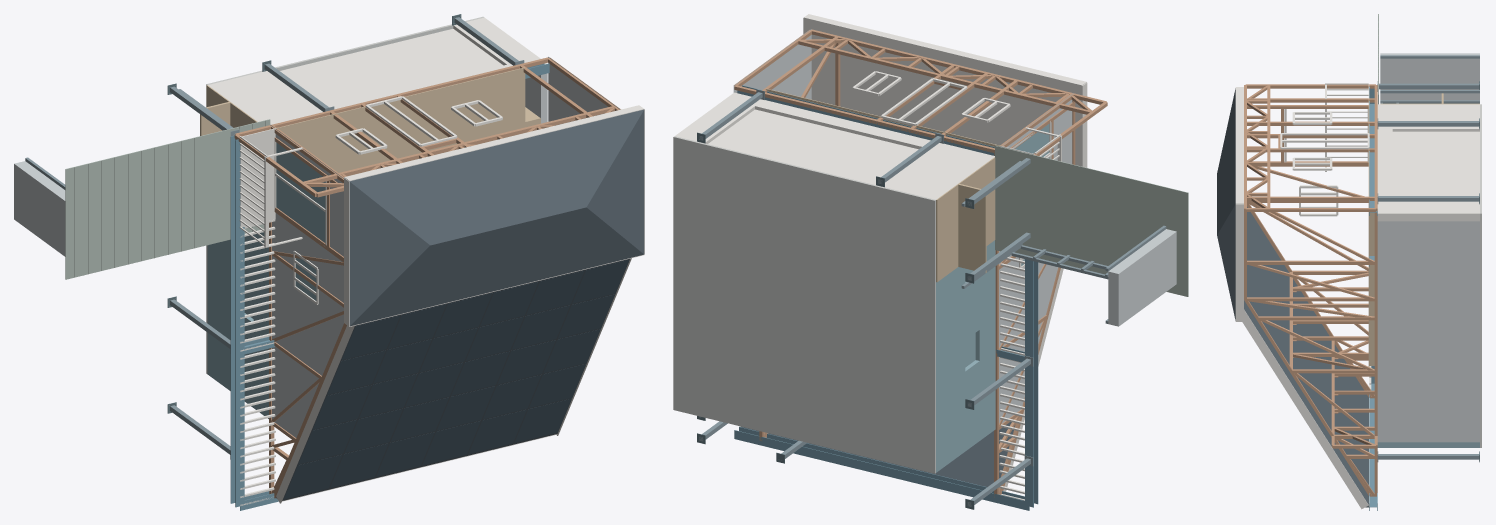
Rendered from garage-complete.gltf.
The picture shows the model from 3 angles, left to right: view 1: azimuth 30°, elevation 25°; view 2: azimuth 150°, elevation 25°; view 3: azimuth 270°, elevation 25°; orthographic projection. The views are drawn at different scales.
Visible parts, largest first — view 1: Renderer Node; view 2: Renderer Node; view 3: Renderer Node.
Part boxes in pixels (left/top/right/bottom): Renderer Node: left=14, top=14, right=644, bottom=510; Renderer Node: left=673, top=14, right=1188, bottom=510; Renderer Node: left=1217, top=14, right=1481, bottom=510.
Size of the model in its own units: 11.23 by 8.39 by 6.48.
